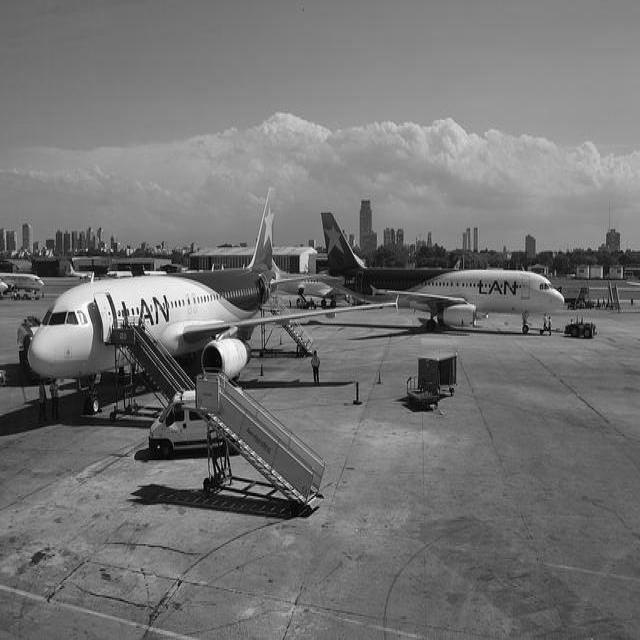vehicle: (145, 390, 233, 456)
